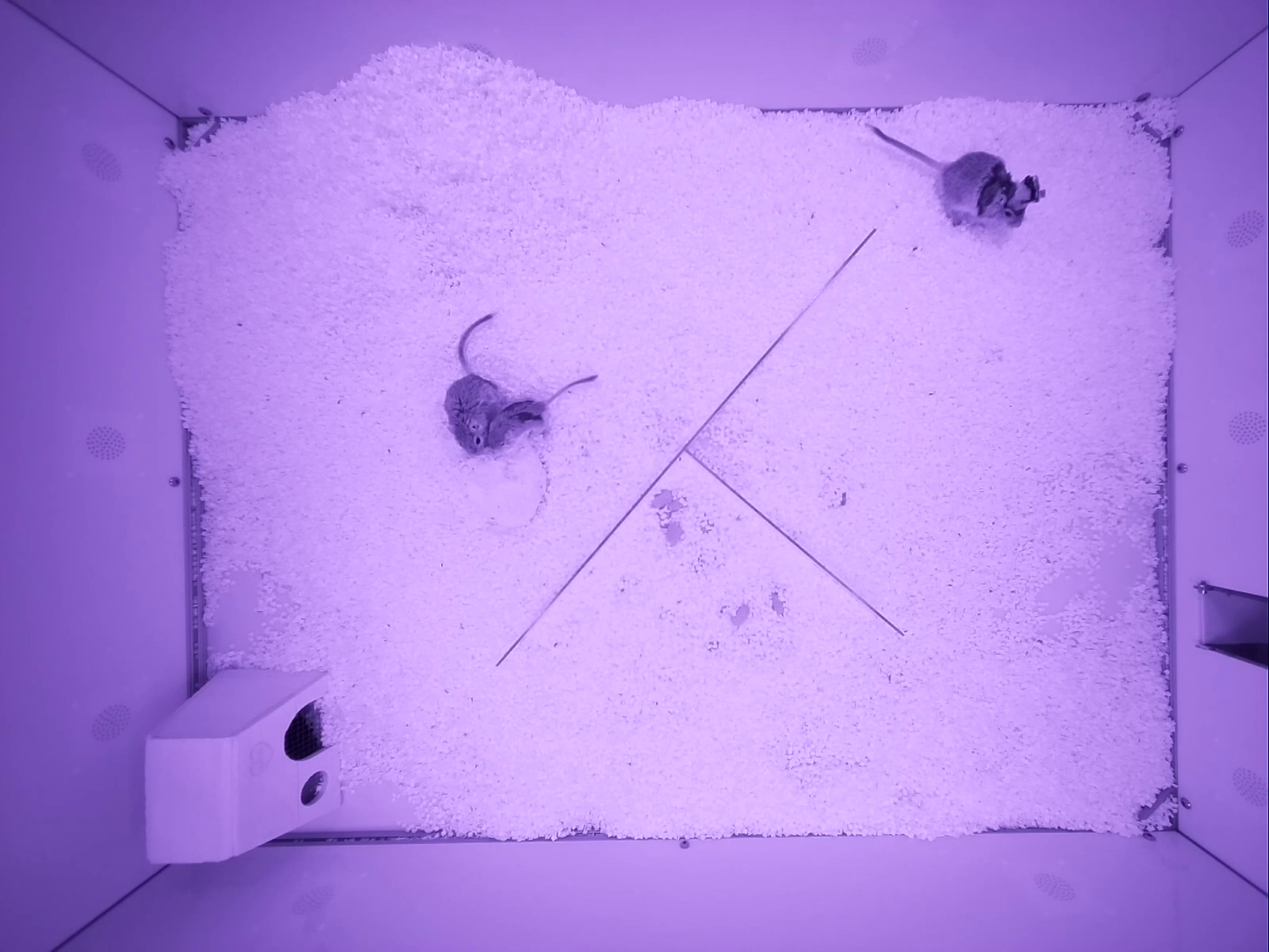adult_back: (444, 313, 596, 454), (869, 125, 1043, 225), (489, 374, 596, 448), (443, 313, 498, 454)
